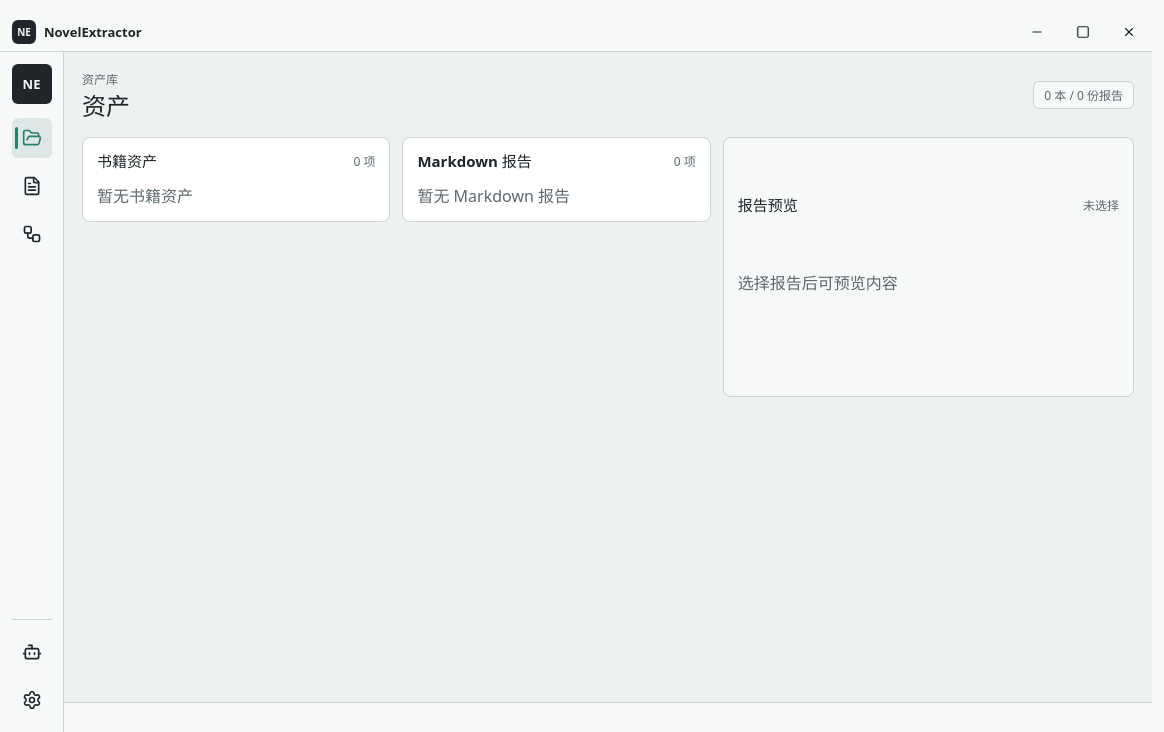
Test: desktop workbench shell › switches between workbench pages from navigation
Check: the heading "资产" is shown, box [82,92,130,121]
Click the button named "提取" at (32, 186), box [12,166,52,206]
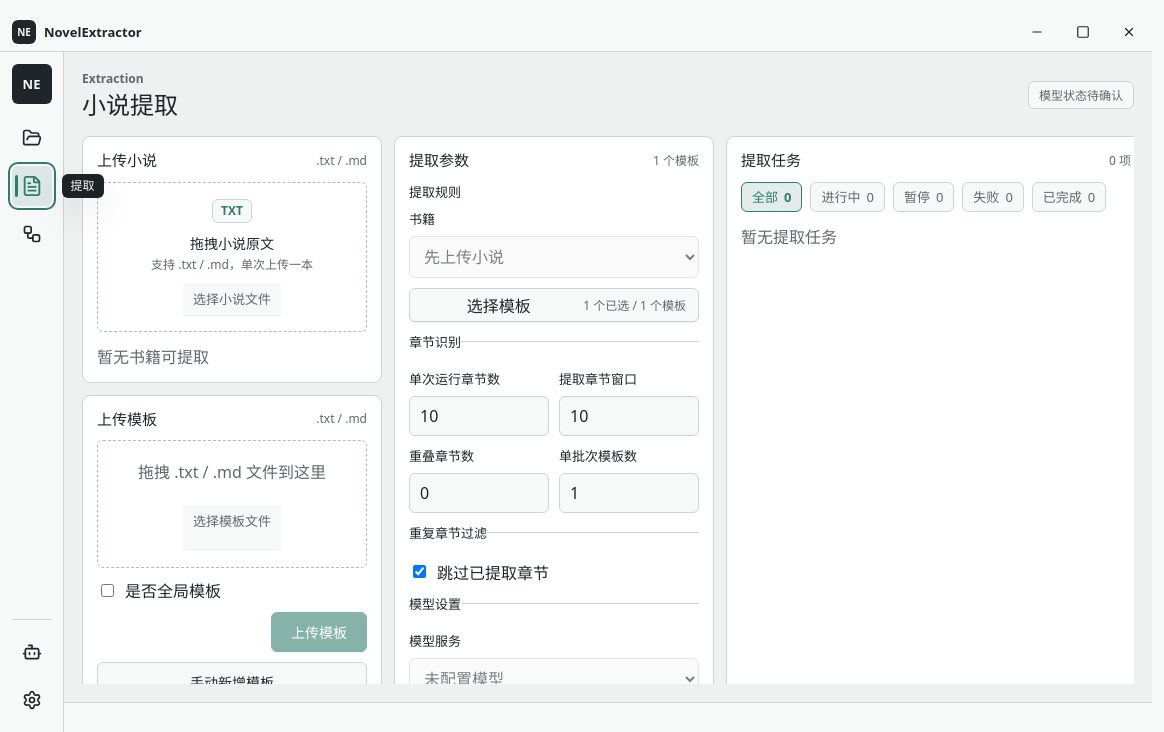
Check: the heading "小说提取" is shown, box [82,91,178,120]
Click the button named "关系图" at (32, 234), box [12,214,52,254]
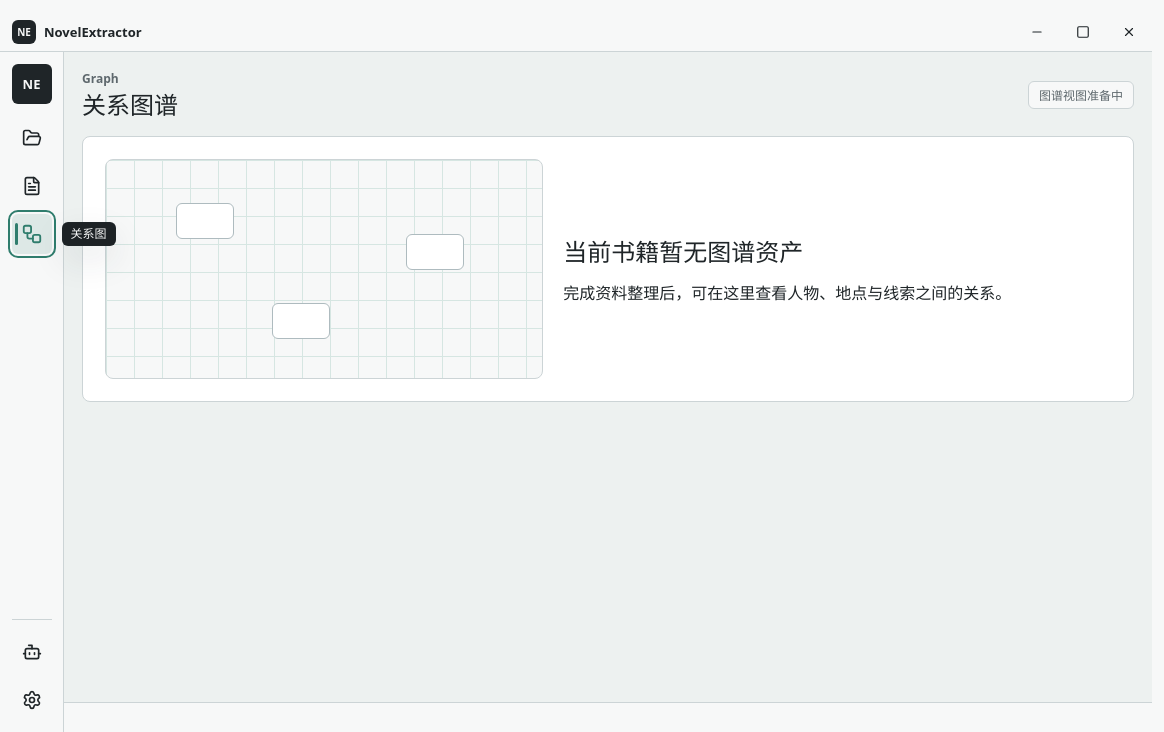
Check: the heading "关系图谱" is shown, box [82,91,178,120]
